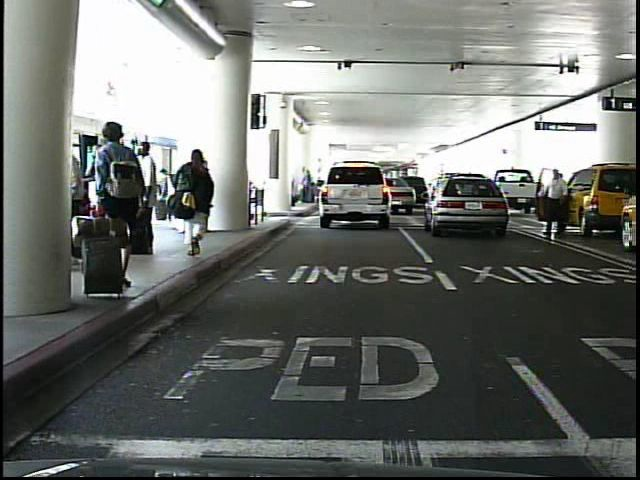person: (90, 115, 144, 299), (177, 145, 220, 266), (128, 138, 164, 257), (540, 166, 569, 240), (184, 155, 209, 233)
